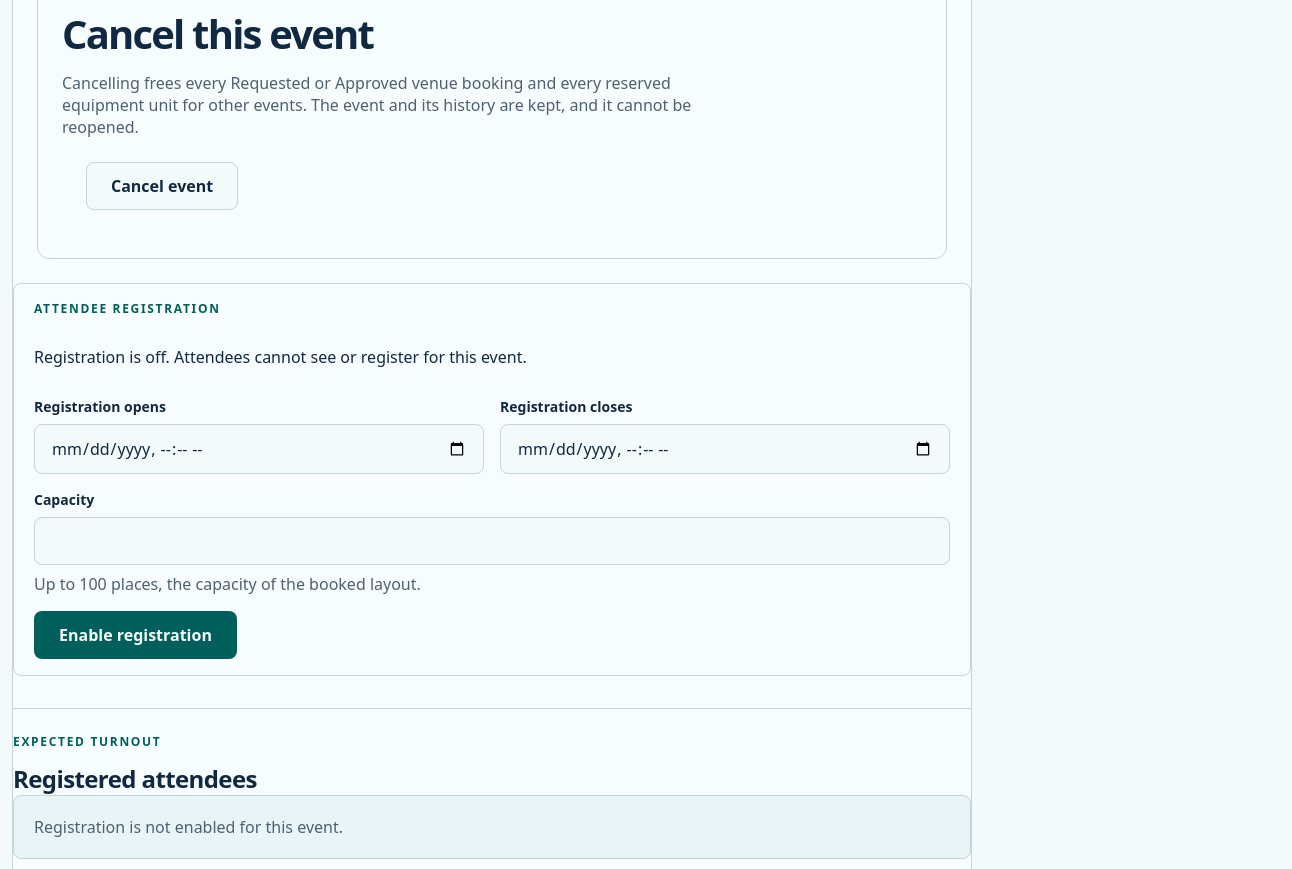
QA-SPL-120-020: refreshes the attendee list after registration is enabled
The width and height of the screenshot is (1292, 869).
(page scrolled)
Expected: the text "Registration is not enabled for this event." is shown, [13,795,971,859]
Type "2026-11-01T09:00" into the field labelled "Registration opens".
click(259, 449); type("2026-11-01T09:00")  # box [34,424,484,474]
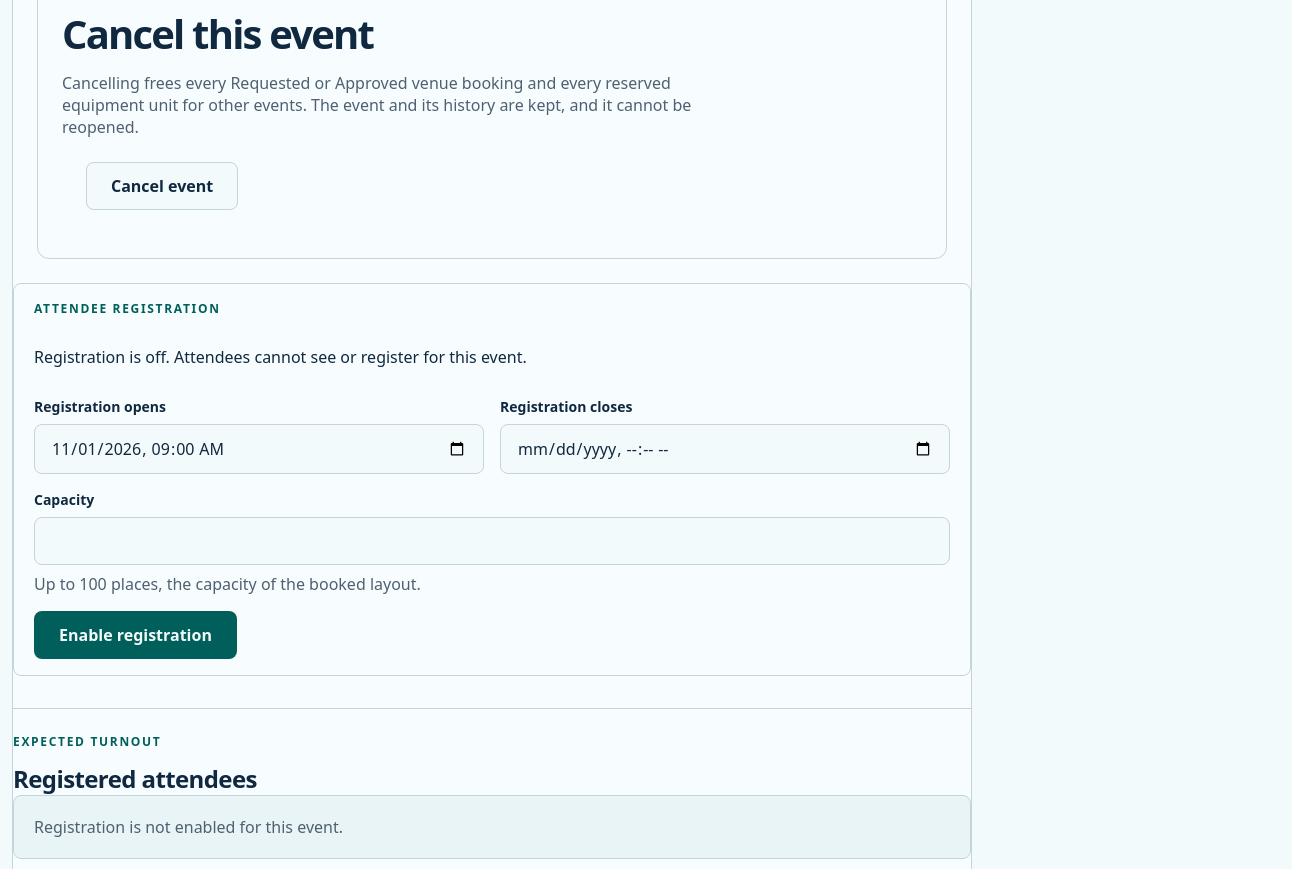
Type "2026-11-19T18:00" into the field labelled "Registration closes".
click(725, 449); type("2026-11-19T18:00")  # box [500,424,950,474]
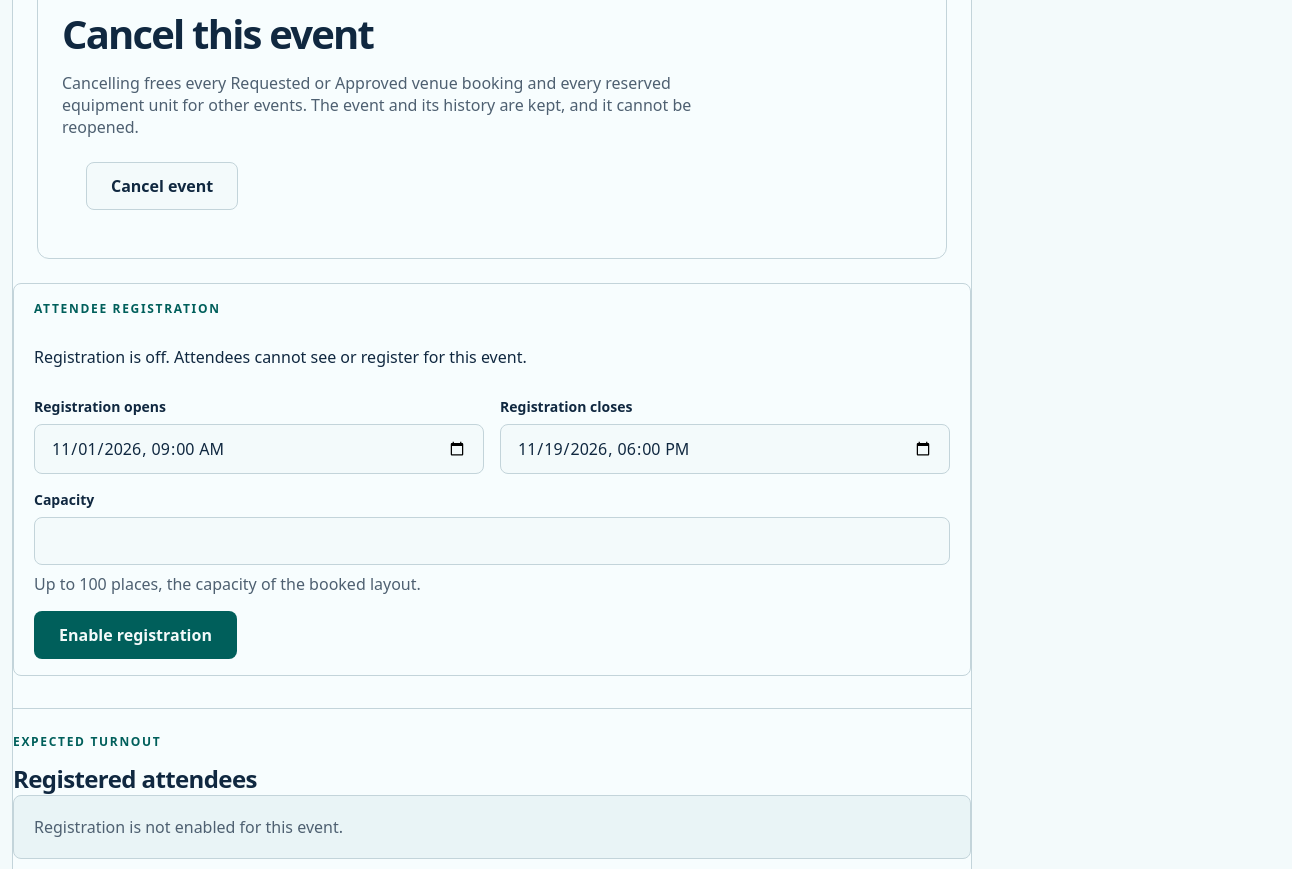
Type "80" into the number field labelled "Capacity".
click(492, 541); type("80")  # box [34,517,950,565]
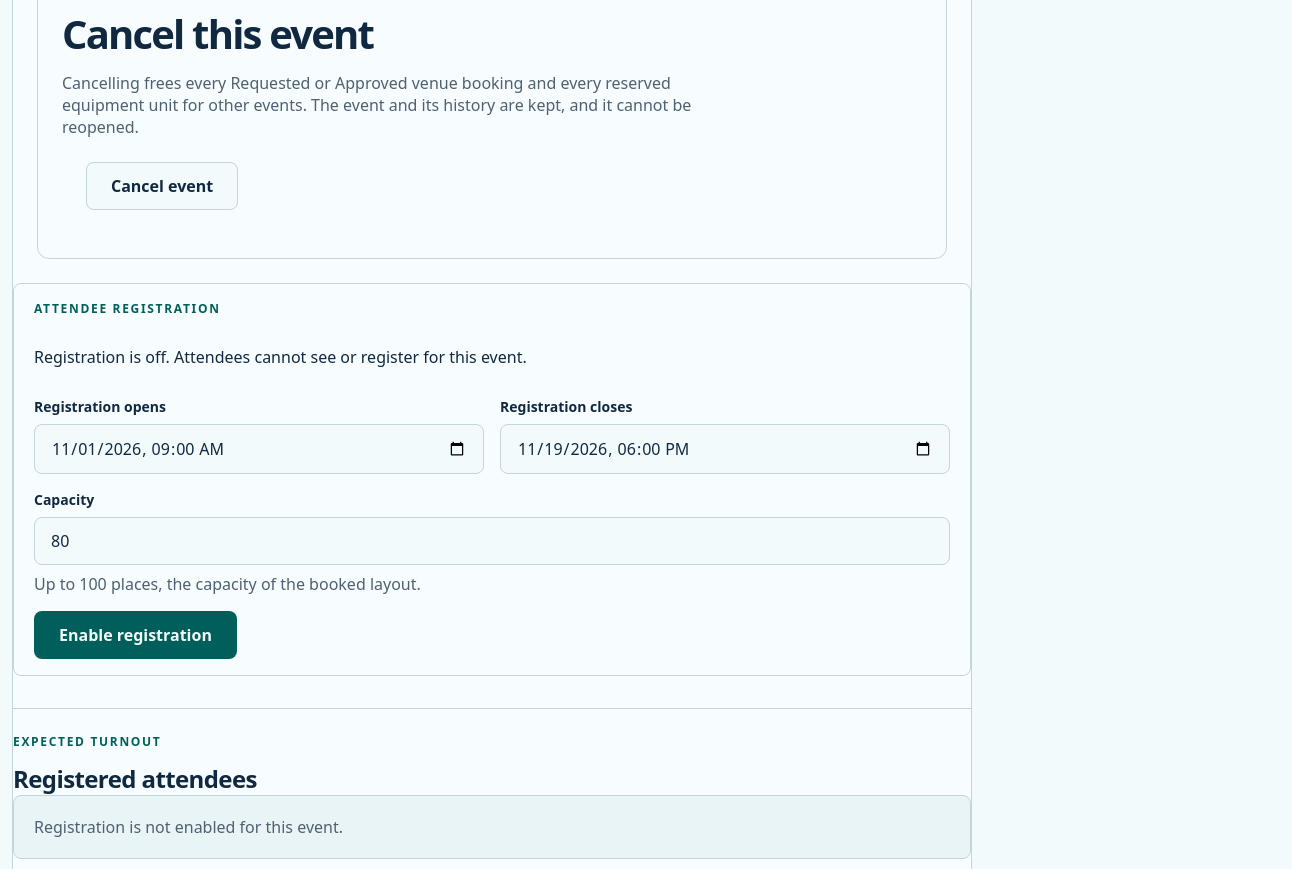
Click the button "Enable registration".
click(135, 635)  # box [34,611,237,659]
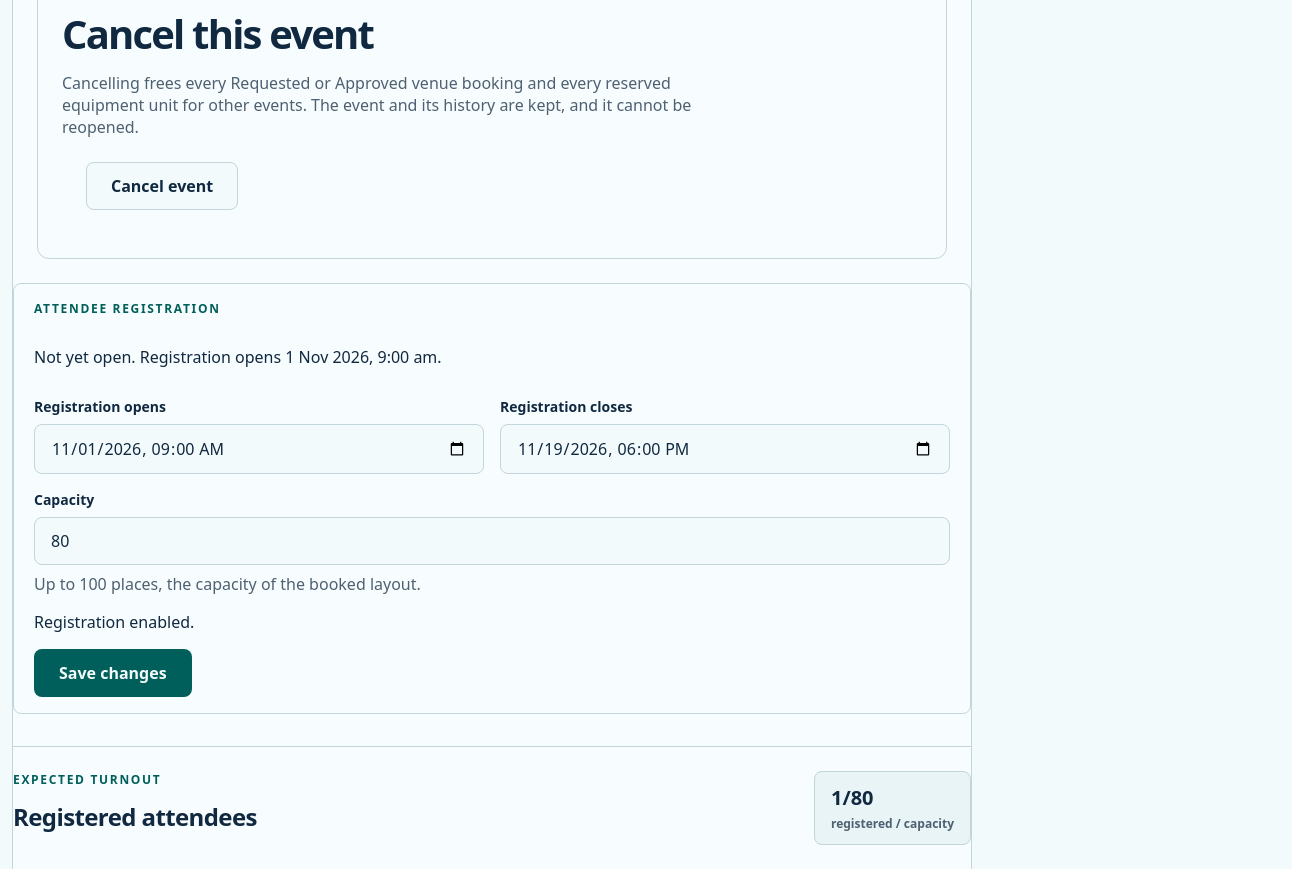
Result: the element named "1 of 80 places registered" is shown at [814,771,971,845]
Result: the text "Registration is not enabled for this event." is gone
